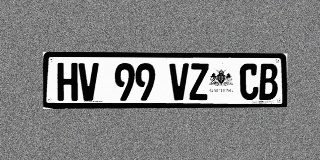9: (115, 63, 135, 101), (136, 63, 155, 100)
B: (259, 64, 278, 100)
C: (240, 63, 259, 100)
H: (57, 63, 78, 101)
V: (78, 63, 99, 101), (169, 63, 189, 100)
Z: (189, 63, 209, 100)
